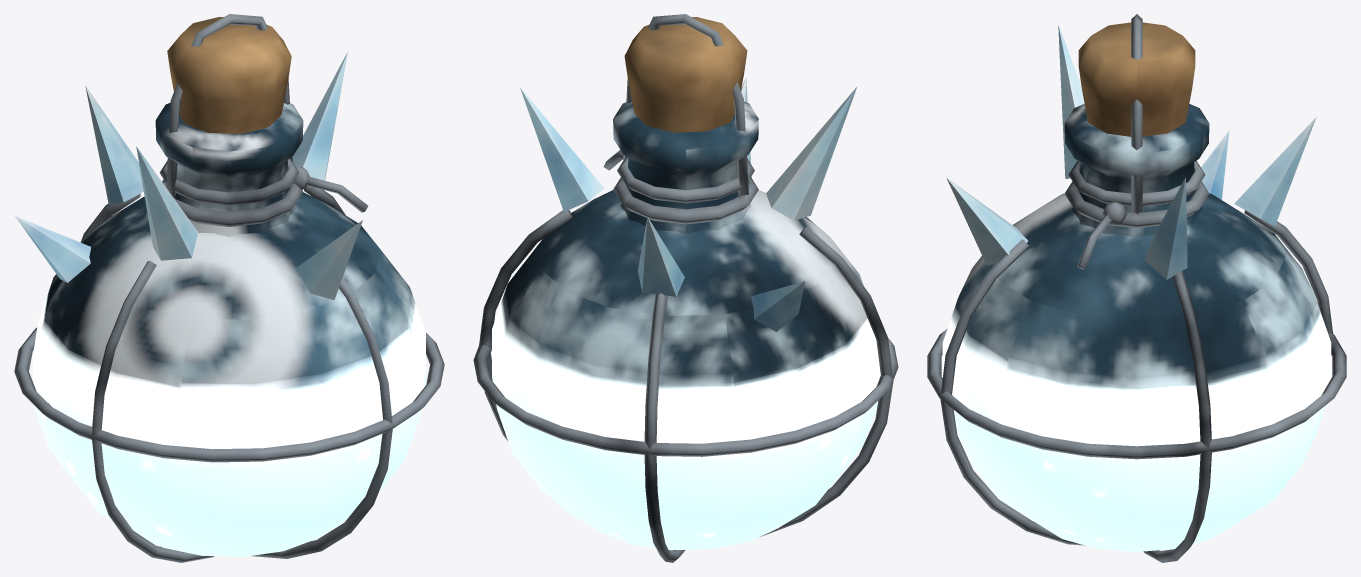
The model's file is IceGrenade.fbx.
3 views of the same model, side by side, from view 1: azimuth 30°, elevation 25°; view 2: azimuth 150°, elevation 25°; view 3: azimuth 270°, elevation 25° (orthographic).
Visible parts, largest first — view 1: IceGrenade; view 2: IceGrenade; view 3: IceGrenade.
Boxes of the visible parts, x1,y1,x2,y2 form: IceGrenade: [14, 14, 444, 562]; IceGrenade: [473, 14, 898, 562]; IceGrenade: [927, 14, 1346, 562].
Bounding box in the file's own units: 0.1528 × 0.2094 × 0.1517.
